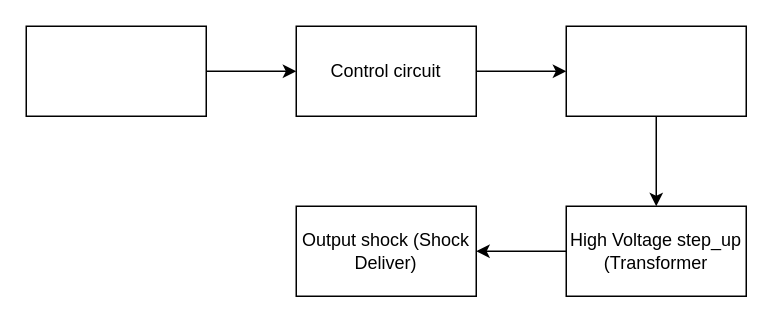
Image size: 773x323. Some labels were removed from this diagram. The box of each missing label's shape, as (x1, y1, x2, y2) in pixels:
Power supply VCC: (25, 25, 206, 116)
Pulse generation (Trigger Mechanism): (565, 25, 746, 116)
